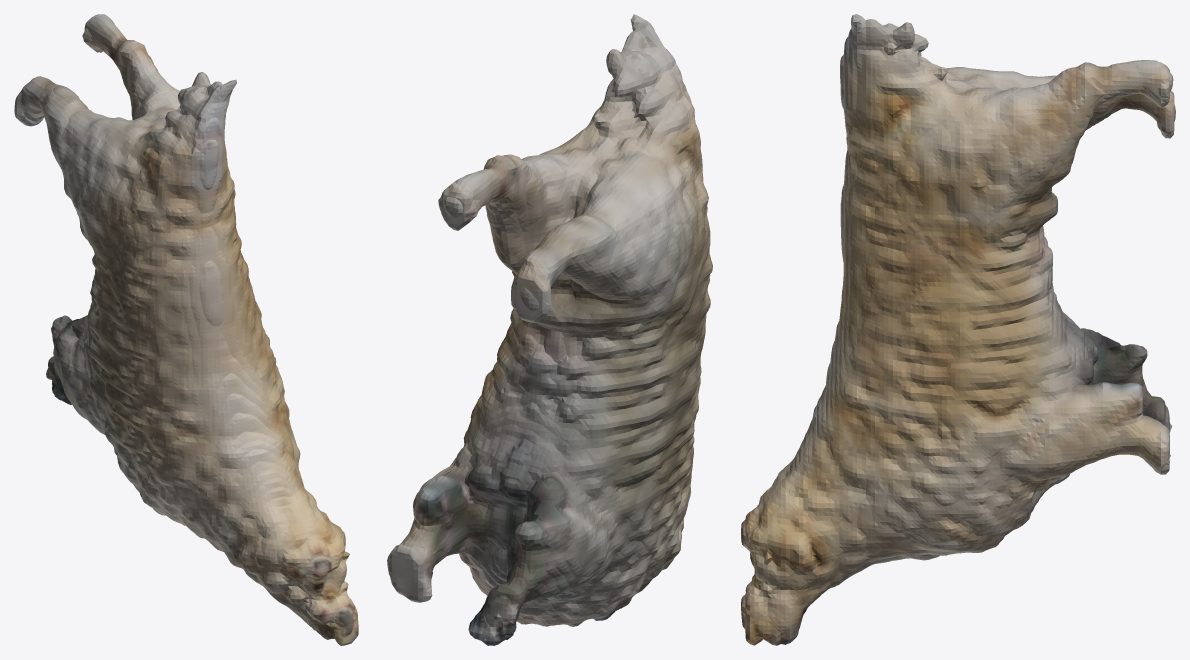
3 views of the same model, side by side, from view 1: azimuth 30°, elevation 25°; view 2: azimuth 150°, elevation 25°; view 3: azimuth 270°, elevation 25° (orthographic). The views are drawn at different scales.
Parts seen in each view (by area): view 1: world; view 2: world; view 3: world.
Boxes of the visible parts, bbox=[...] form: world: bbox=[14, 14, 358, 645]; world: bbox=[387, 14, 712, 645]; world: bbox=[741, 14, 1175, 645].
Bounding box in the file's own units: 0.3454 × 1 × 0.6639.
